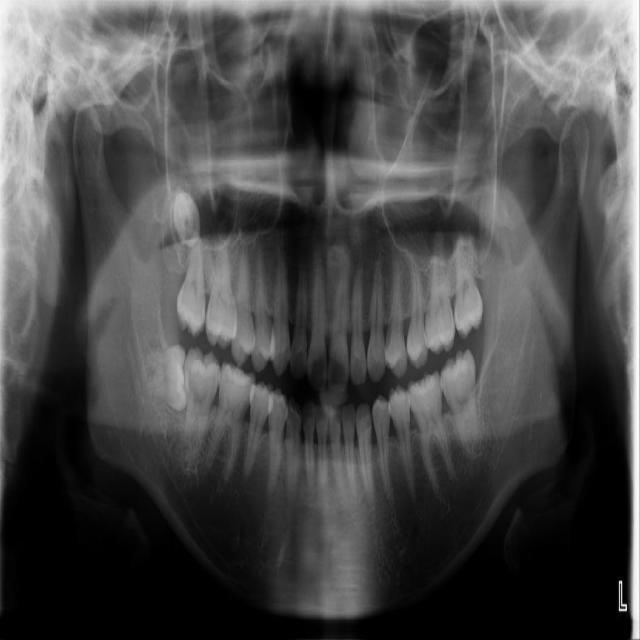impacted tooth: (130, 345, 188, 410), (171, 185, 200, 245)
